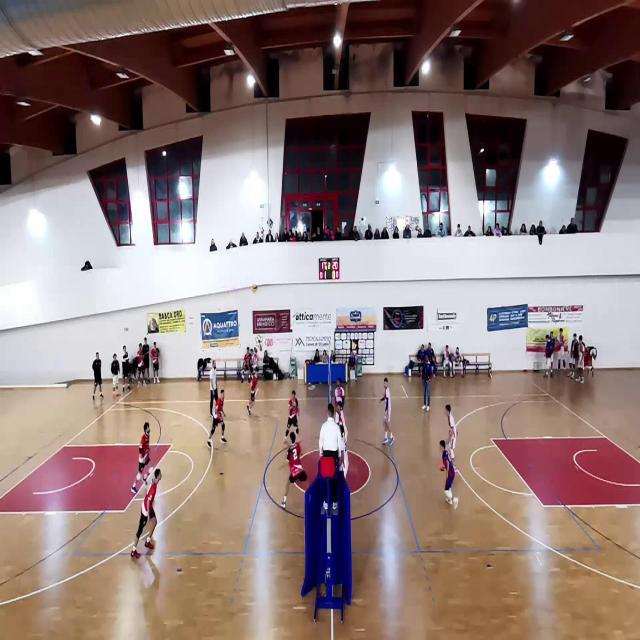volleyball: (249, 284, 258, 292)
